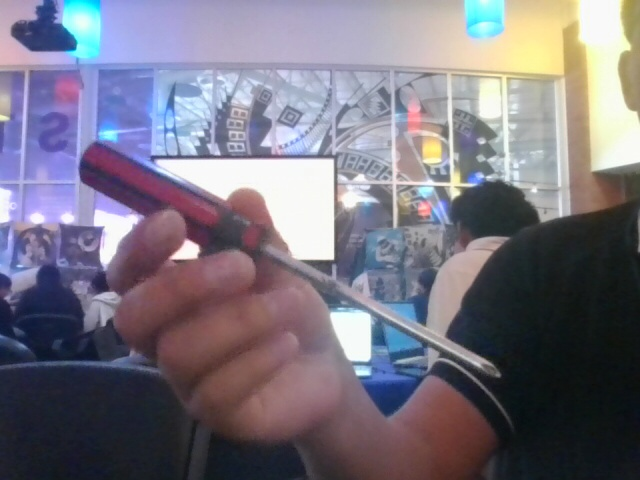destornillador: (81, 140, 495, 379)
